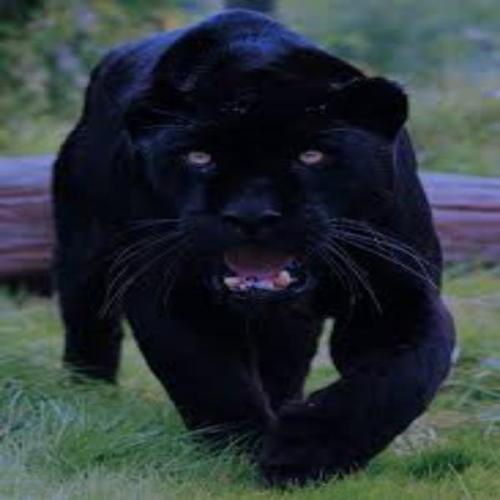panther-endangered: (43, 7, 456, 480)
